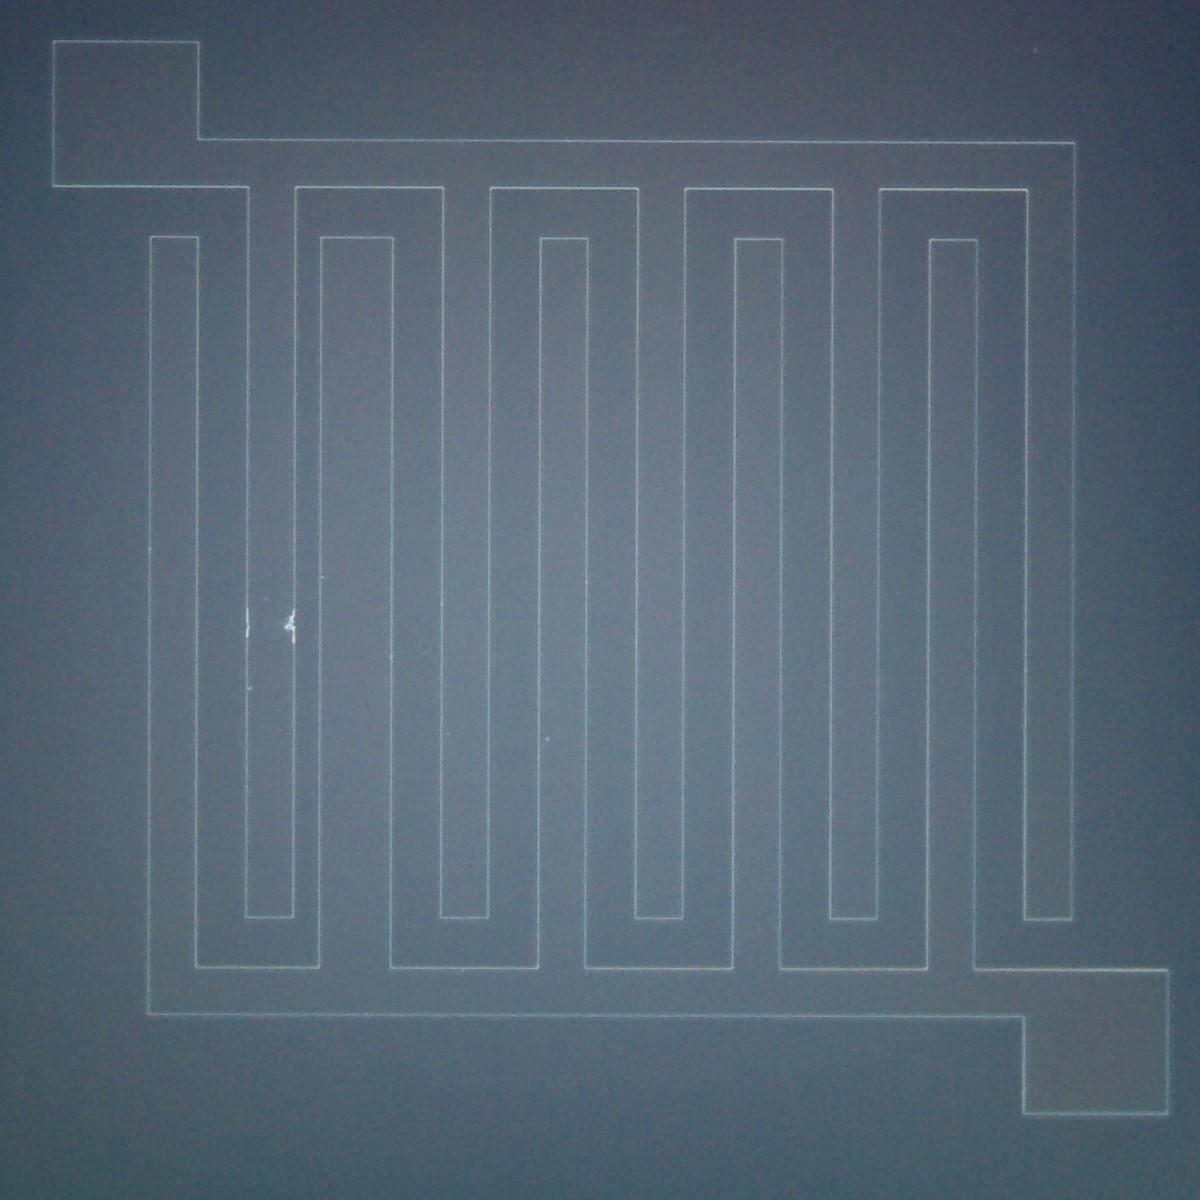project: (273, 607, 307, 645)
s_point: (542, 734, 553, 745), (245, 684, 255, 693)
width: (218, 213, 500, 984)
